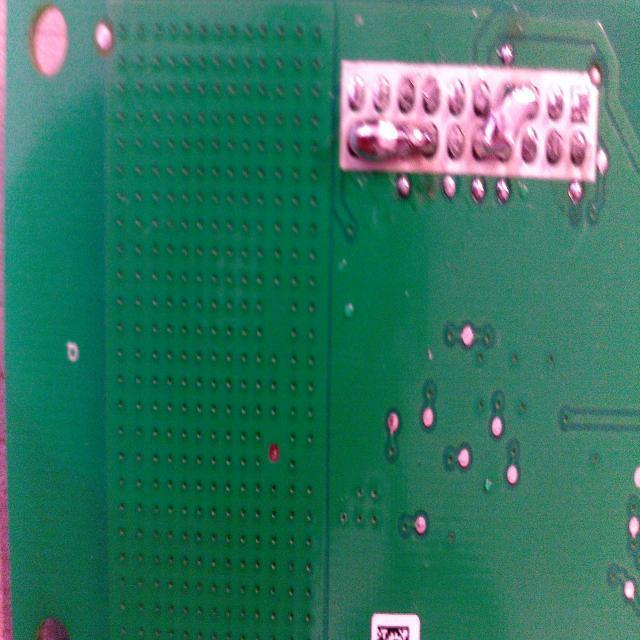Soldering shorted: (472, 75, 542, 163), (349, 114, 436, 170)
